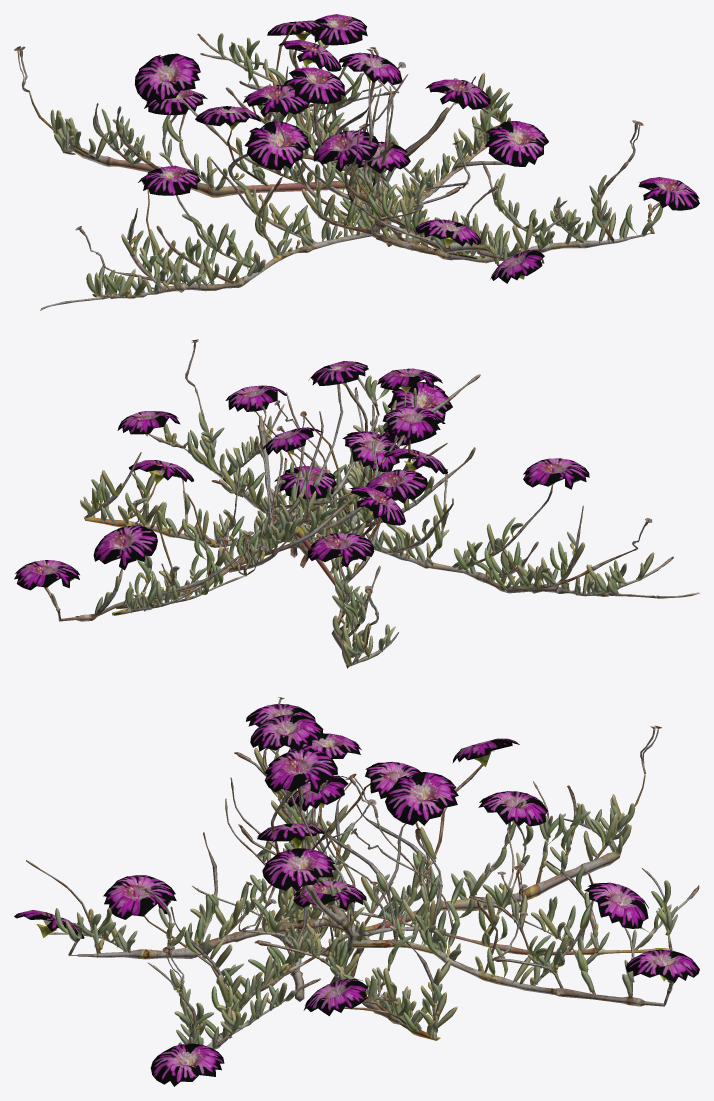
The model's file is plant2.gltf.
3 renders of one model, top to bottom at view 1: azimuth 30°, elevation 25°; view 2: azimuth 150°, elevation 25°; view 3: azimuth 270°, elevation 25°, orthographic. The views are drawn at different scales.
Visible parts, largest first — view 1: leipoldtia_schultzei_Large_LOD1; view 2: leipoldtia_schultzei_Large_LOD1; view 3: leipoldtia_schultzei_Large_LOD1.
Boxes of the visible parts, x1=… form: leipoldtia_schultzei_Large_LOD1: x1=14, y1=14, x2=699, y2=310; leipoldtia_schultzei_Large_LOD1: x1=14, y1=339, x2=699, y2=668; leipoldtia_schultzei_Large_LOD1: x1=14, y1=697, x2=699, y2=1086.
Bounding box in the file's own units: 0.9287 × 0.2977 × 0.8131.
Materials: 1 (1 with a texture image).
